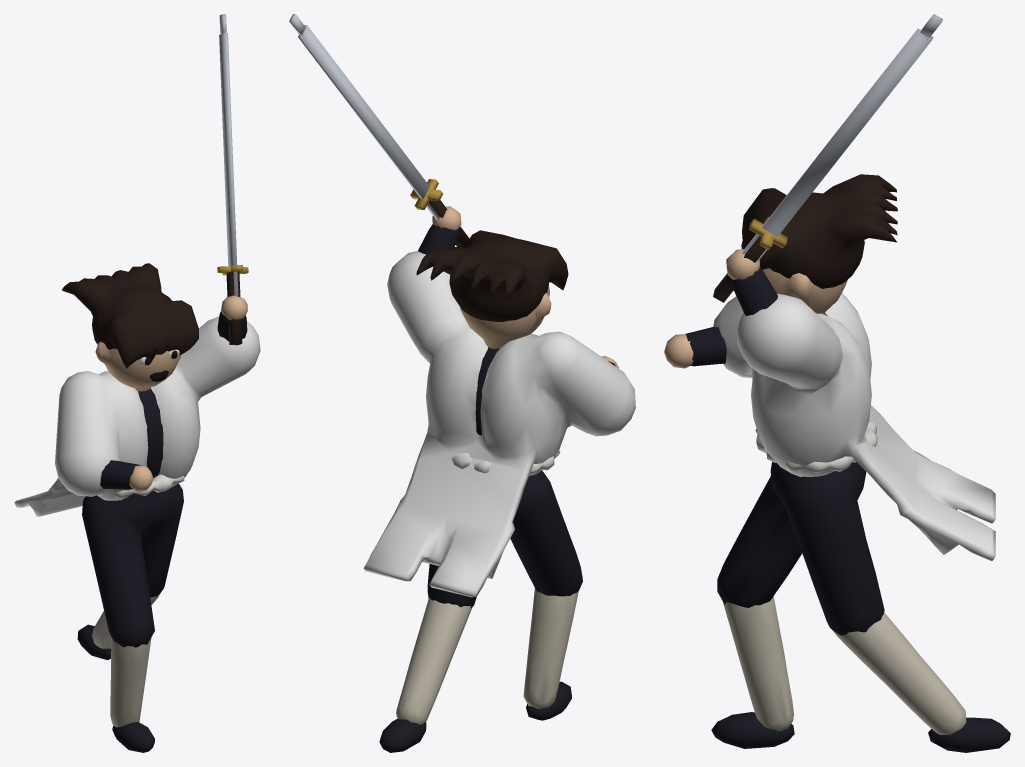
Rendered from kishi.glb.
The picture shows the model from 3 angles, left to right: view 1: azimuth 30°, elevation 25°; view 2: azimuth 150°, elevation 25°; view 3: azimuth 270°, elevation 25°; orthographic projection. The views are drawn at different scales.
Parts seen in each view (by area): view 1: body, haori, katana; view 2: haori, body, katana; view 3: body, haori, katana.
Part boxes in pixels (x1,y1,x2,y2): body: [62, 263, 247, 752]; haori: [14, 316, 260, 516]; katana: [217, 14, 248, 345]; haori: [363, 251, 635, 597]; body: [379, 206, 618, 752]; katana: [289, 14, 469, 247]; body: [664, 174, 1010, 752]; haori: [713, 292, 995, 560]; katana: [713, 14, 942, 302].
Bounding box in the file's own units: 0.9784 × 2.55 × 0.9634.
